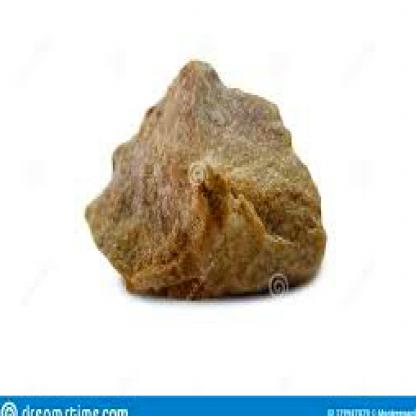Metamorphic_Quartize: (75, 43, 342, 314)
